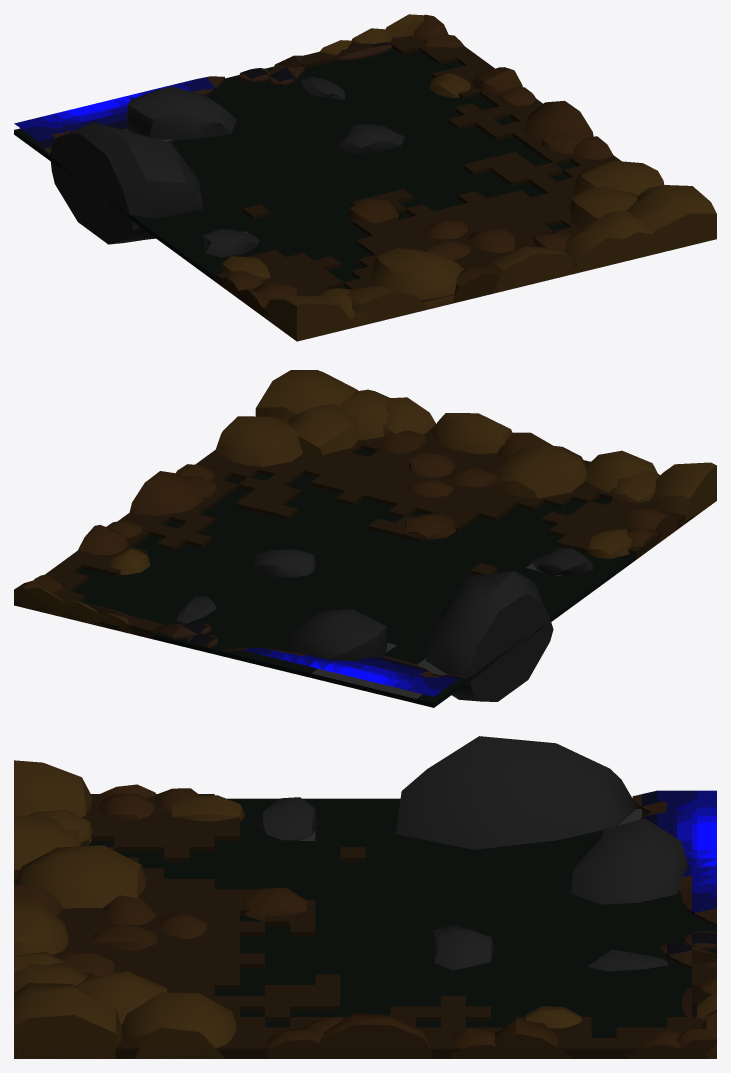
File: holes_rocks_br_damaged.glb
3 views of the same model, one above another, from view 1: azimuth 30°, elevation 25°; view 2: azimuth 150°, elevation 25°; view 3: azimuth 270°, elevation 25° (orthographic). The views are drawn at different scales.
Visible parts, largest first — view 1: holes_rocks_br_damaged_pit, holes_rocks_br_damaged_dirt_base, holes_rocks_br_damaged_stone19, holes_rocks_br_damaged_pool, holes_rocks_br_damaged_stone17, holes_rocks_br_damaged_dirt_32, holes_rocks_br_damaged_dirt_24, holes_rocks_br_damaged_dirt_30, holes_rocks_br_damaged_dirt_77, holes_rocks_br_damaged_dirt_14, holes_rocks_br_damaged_dirt_20, holes_rocks_br_damaged_dirt_85 (+22 smaller); view 2: holes_rocks_br_damaged_pit, holes_rocks_br_damaged_dirt_base, holes_rocks_br_damaged_stone19, holes_rocks_br_damaged_pool, holes_rocks_br_damaged_stone17, holes_rocks_br_damaged_dirt_24, holes_rocks_br_damaged_dirt_20, holes_rocks_br_damaged_dirt_32, holes_rocks_br_damaged_dirt_30, holes_rocks_br_damaged_dirt_8, holes_rocks_br_damaged_dirt_77, holes_rocks_br_damaged_dirt_140 (+19 smaller); view 3: holes_rocks_br_damaged_pit, holes_rocks_br_damaged_dirt_base, holes_rocks_br_damaged_stone19, holes_rocks_br_damaged_pool, holes_rocks_br_damaged_stone17, holes_rocks_br_damaged_dirt_32, holes_rocks_br_damaged_dirt_20, holes_rocks_br_damaged_dirt_24, holes_rocks_br_damaged_dirt_140, holes_rocks_br_damaged_dirt_30, holes_rocks_br_damaged_dirt_77, holes_rocks_br_damaged_dirt_14 (+22 smaller).
Boxes of the visible parts, bbox=[...] form: holes_rocks_br_damaged_pit: bbox=[14, 48, 576, 288]; holes_rocks_br_damaged_dirt_base: bbox=[216, 35, 621, 340]; holes_rocks_br_damaged_stone19: bbox=[50, 122, 203, 244]; holes_rocks_br_damaged_pool: bbox=[14, 42, 392, 154]; holes_rocks_br_damaged_stone17: bbox=[127, 86, 236, 139]; holes_rocks_br_damaged_dirt_32: bbox=[626, 185, 716, 255]; holes_rocks_br_damaged_dirt_24: bbox=[370, 248, 463, 308]; holes_rocks_br_damaged_dirt_30: bbox=[264, 295, 355, 341]; holes_rocks_br_damaged_dirt_77: bbox=[488, 246, 577, 293]; holes_rocks_br_damaged_dirt_14: bbox=[347, 285, 429, 328]; holes_rocks_br_damaged_dirt_20: bbox=[573, 160, 664, 195]; holes_rocks_br_damaged_dirt_85: bbox=[581, 211, 655, 267]; holes_rocks_br_damaged_pit: bbox=[67, 449, 636, 707]; holes_rocks_br_damaged_dirt_base: bbox=[14, 425, 716, 639]; holes_rocks_br_damaged_stone19: bbox=[426, 571, 553, 701]; holes_rocks_br_damaged_pool: bbox=[86, 604, 467, 696]; holes_rocks_br_damaged_stone17: bbox=[290, 609, 386, 661]; holes_rocks_br_damaged_dirt_24: bbox=[493, 445, 586, 498]; holes_rocks_br_damaged_dirt_20: bbox=[215, 416, 302, 466]; holes_rocks_br_damaged_dirt_32: bbox=[255, 370, 358, 421]; holes_rocks_br_damaged_dirt_30: bbox=[651, 462, 716, 520]; holes_rocks_br_damaged_dirt_8: bbox=[288, 404, 359, 455]; holes_rocks_br_damaged_dirt_77: bbox=[432, 413, 512, 454]; holes_rocks_br_damaged_dirt_140: bbox=[129, 471, 202, 515]; holes_rocks_br_damaged_pit: bbox=[89, 798, 716, 1037]; holes_rocks_br_damaged_dirt_base: bbox=[14, 794, 716, 1058]; holes_rocks_br_damaged_stone19: bbox=[396, 736, 637, 850]; holes_rocks_br_damaged_pool: bbox=[632, 790, 716, 1016]; holes_rocks_br_damaged_stone17: bbox=[571, 818, 687, 905]; holes_rocks_br_damaged_dirt_32: bbox=[14, 983, 122, 1058]; holes_rocks_br_damaged_dirt_20: bbox=[121, 992, 236, 1058]; holes_rocks_br_damaged_dirt_24: bbox=[15, 845, 145, 908]; holes_rocks_br_damaged_dirt_140: bbox=[315, 1012, 432, 1058]; holes_rocks_br_damaged_dirt_30: bbox=[14, 760, 91, 817]; holes_rocks_br_damaged_dirt_77: bbox=[14, 901, 68, 955]; holes_rocks_br_damaged_dirt_14: bbox=[14, 815, 81, 870].
Bounding box in the file's own units: 23.98 × 5.86 × 27.98.
